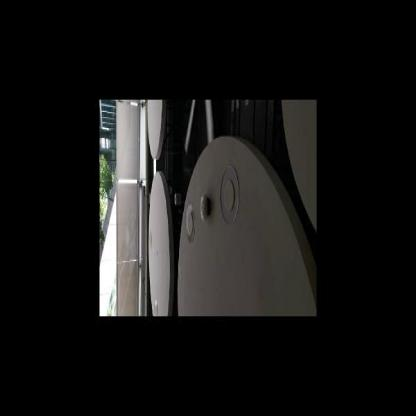light_off: (218, 156, 240, 232), (184, 193, 197, 244)
